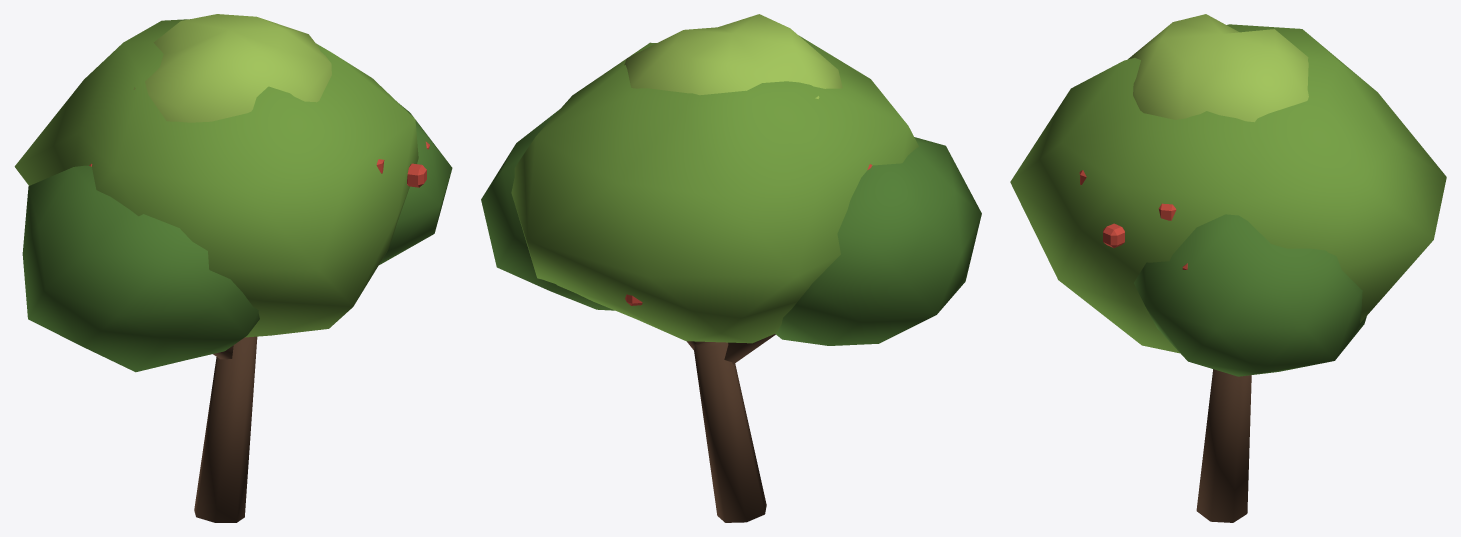
File: tree_apple.glb
3 views of the same model, side by side, from view 1: azimuth 30°, elevation 25°; view 2: azimuth 150°, elevation 25°; view 3: azimuth 270°, elevation 25° (orthographic).
Visible parts, largest first — view 1: LOD0; view 2: LOD0; view 3: LOD0.
Part boxes in pixels (x1,y1,x2,y2): LOD0: (14,14,452,522); LOD0: (481,14,981,522); LOD0: (1010,14,1446,522).
Size of what is drawn, in the model's own units: 4.13 by 4.49 by 3.67.
1 material, 1 textured.
